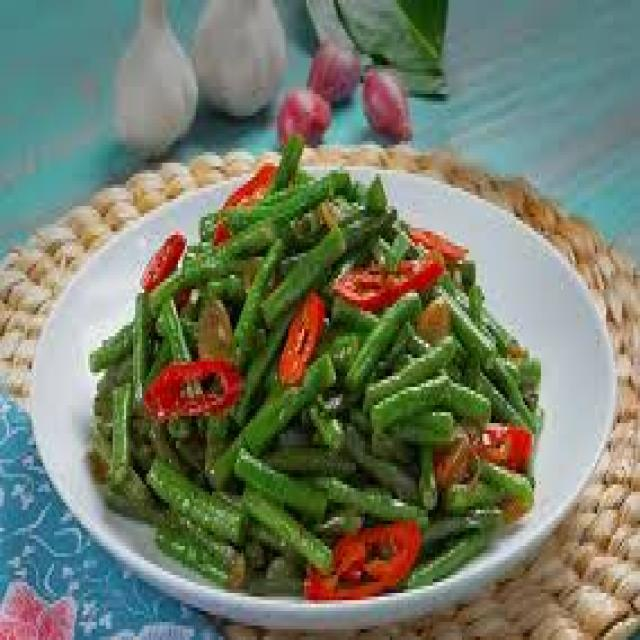kacang_panjang: (84, 148, 551, 586)
